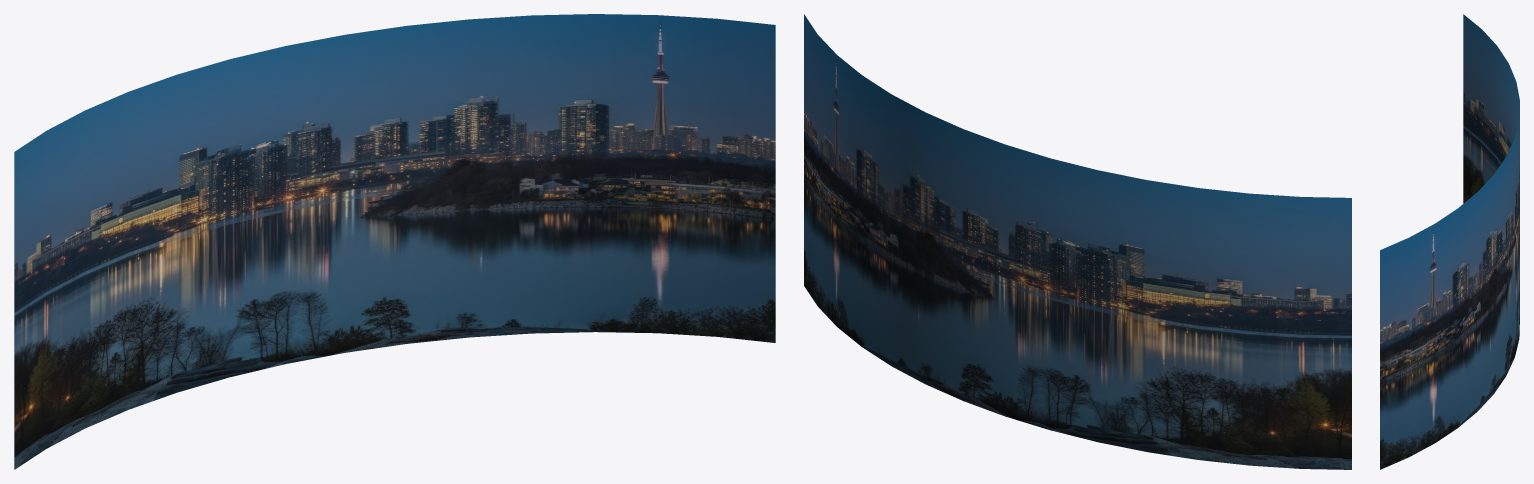
3 views of the same model, side by side, from view 1: azimuth 30°, elevation 25°; view 2: azimuth 150°, elevation 25°; view 3: azimuth 270°, elevation 25° (orthographic). The views are drawn at different scales.
Visible parts, largest first — view 1: Plane001; view 2: Plane001; view 3: Plane001.
Part boxes in pixels (x1,y1,x2,y2): Plane001: (14, 14, 775, 469); Plane001: (804, 14, 1351, 469); Plane001: (1380, 14, 1519, 469).
Size of the model in its own units: 66.27 by 28.74 by 16.59.
1 material, 1 textured.
